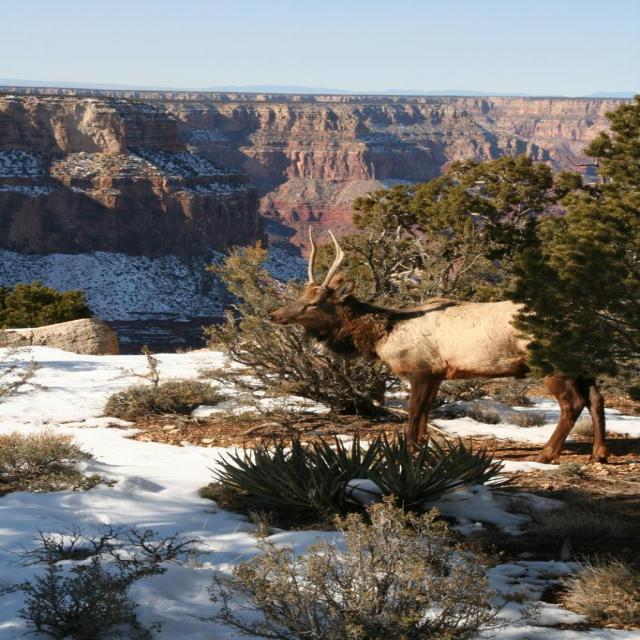Deer: (268, 221, 608, 461)
